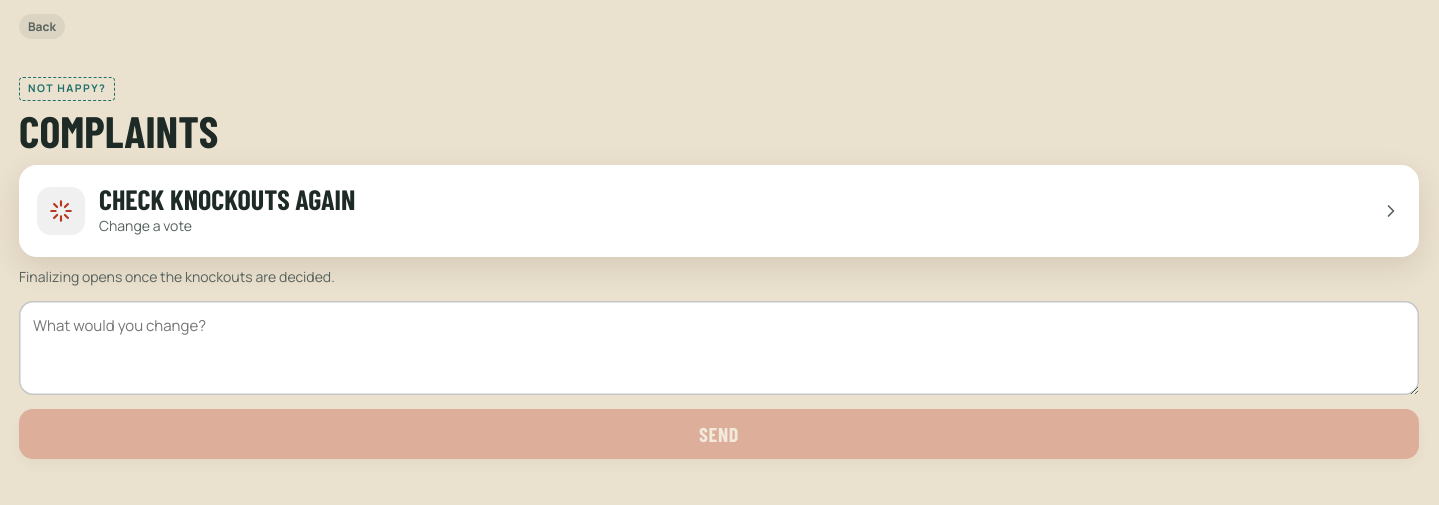
Test: Complaints › keeps the text and says so when the send fails, and does not list it as sent
Type "Too hot" into the text box named "Your complaint" at [719, 348], box [19,301,1419,395]
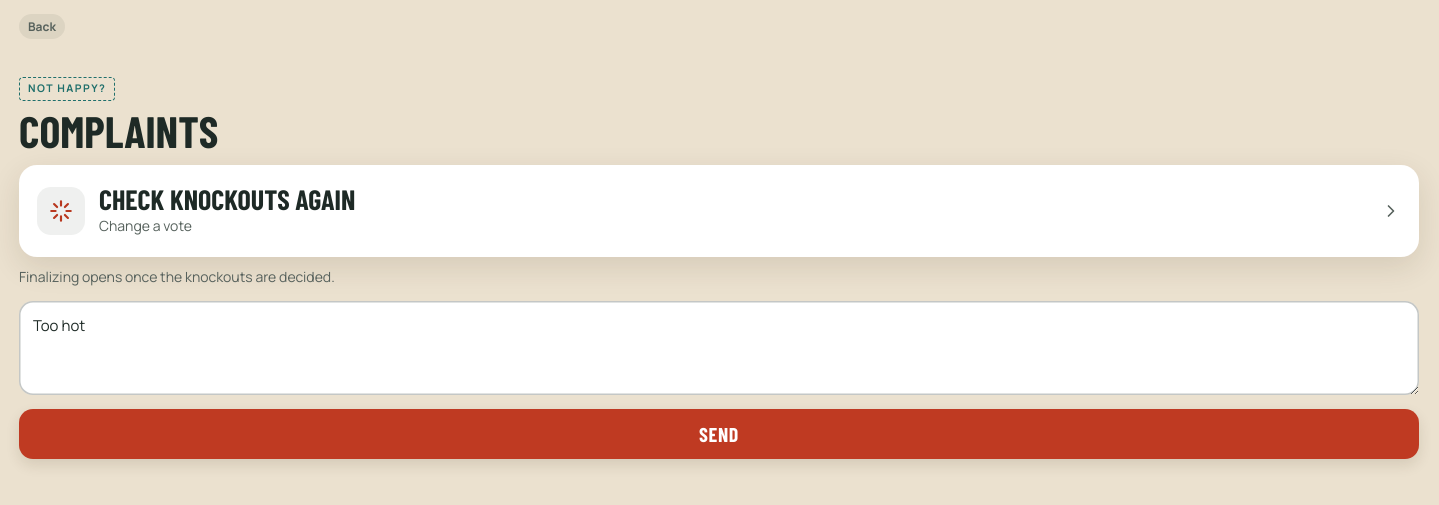
Click the button "Send" at [719, 434], box [19,409,1419,459]
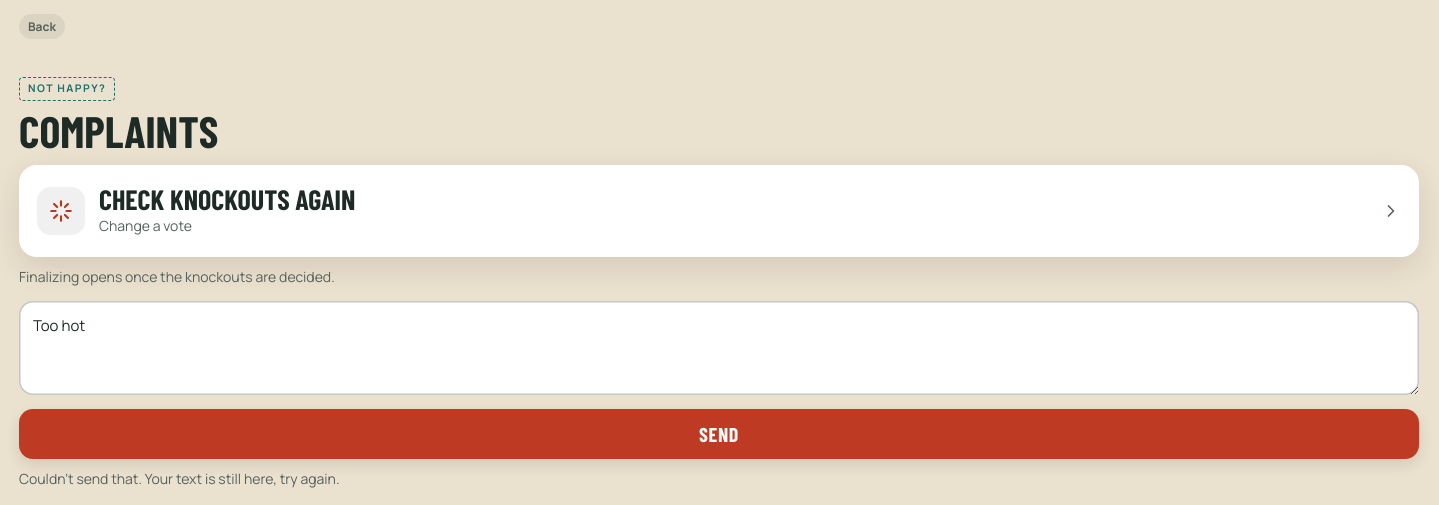
Result: the message shows "Couldn't send" at [19,469,340,488]
